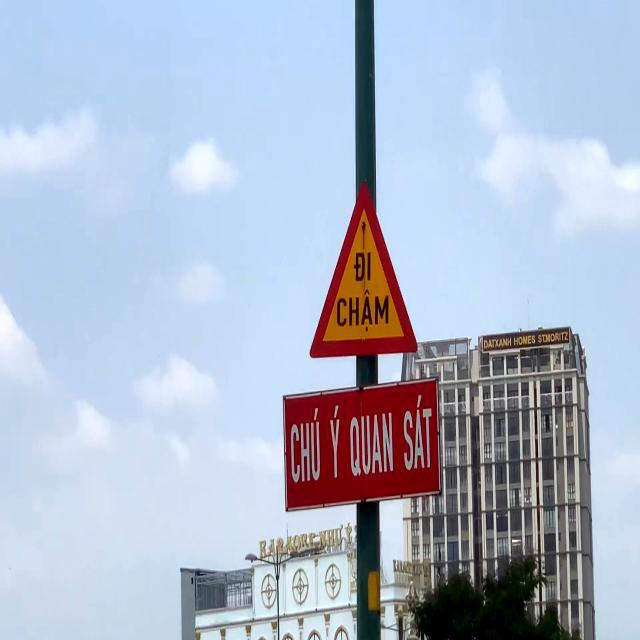Di cham: (304, 164, 426, 369)
